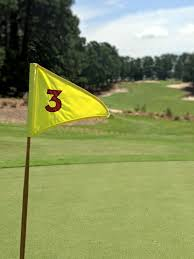Flag: (27, 64, 109, 134)
